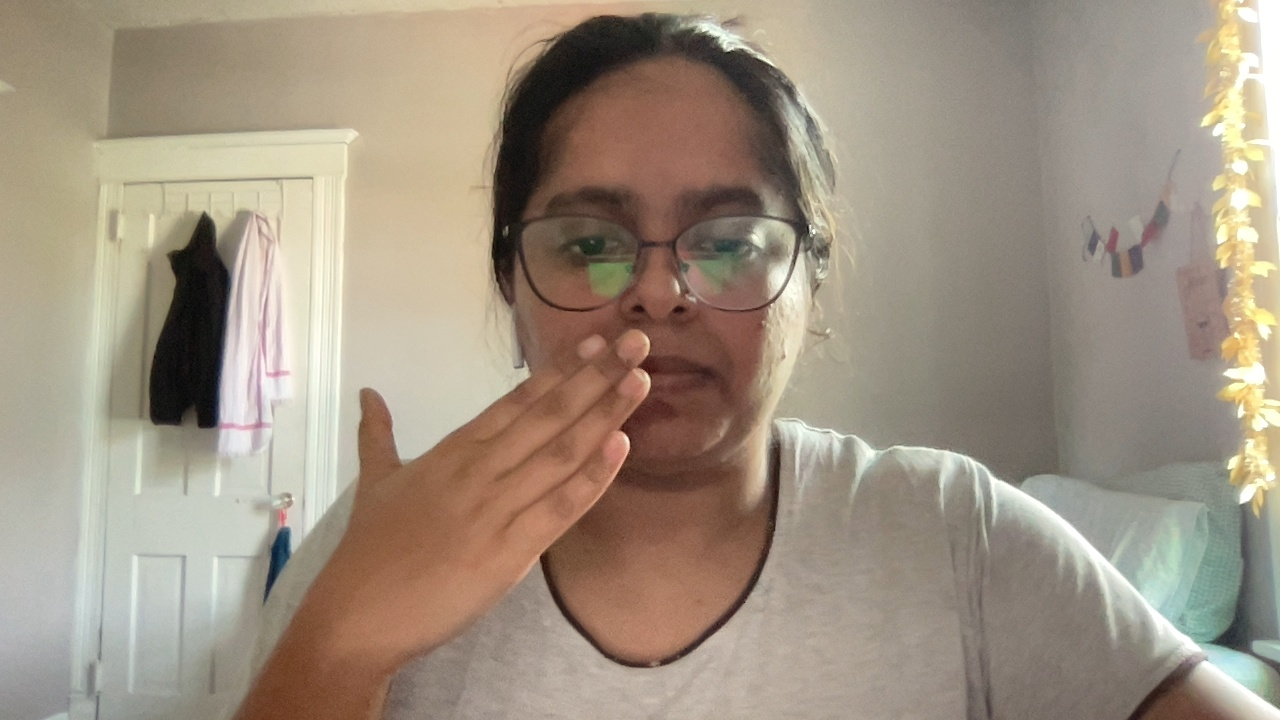ThankYou: (354, 327, 654, 630)
